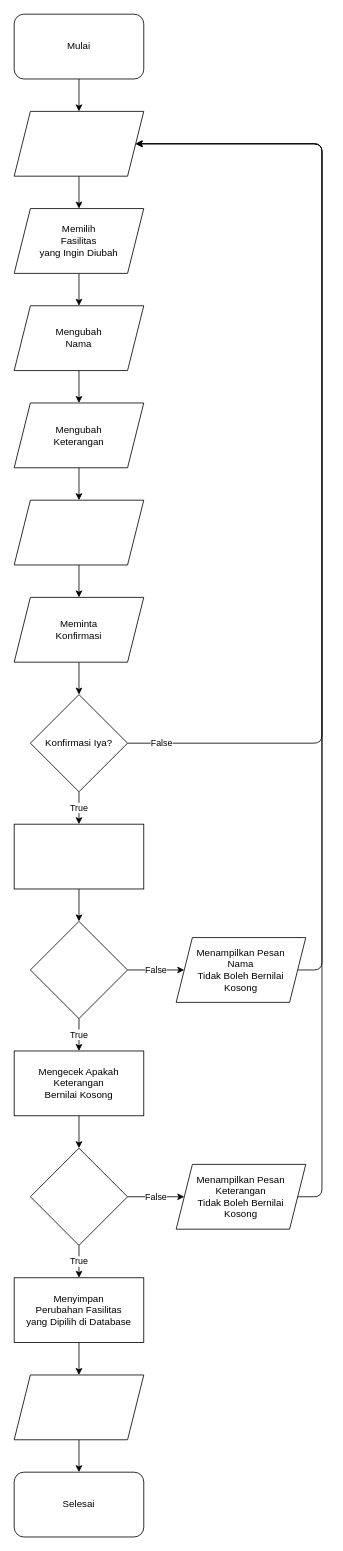
The diagram is 343 pixels wide and 1551 high, and some of its shapes have lost their labels. The shapes that lost their labels are listed below. From the top down, each one's box as (x1, y1, x2, y2) in pixels, then its label:
(13, 111, 144, 176): Menampilkan Halaman Manajemen Fasilitas
(13, 499, 144, 565): Menekan Tombol Ubah
(13, 823, 144, 889): Mengecek Apakah Nama Bernilai Kosong
(30, 921, 128, 1019): Nama Tidak Bernilai Kosong?
(30, 1147, 128, 1245): Keterangan Tidak Bernilai Kosong?
(13, 1374, 144, 1440): Menampilkan Pesan Fasilitas Berhasil Diubah
